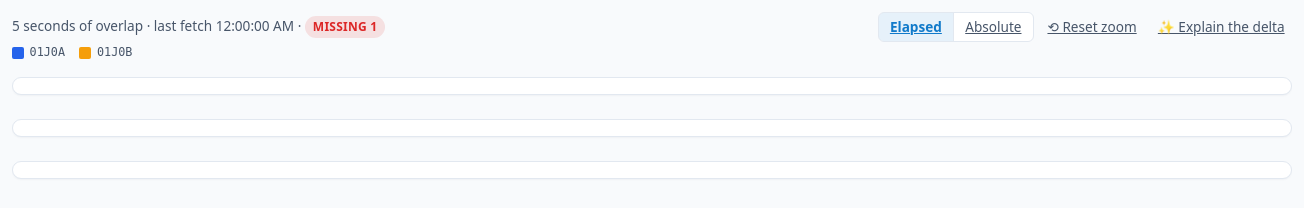
Test: TwoRunMetricsPanel — Explain the delta toggle › does not auto-generate when one run has no data
The image size is (1304, 208).
Click the button "✨ Explain the delta" at coordinates (1221, 27), box [1150,12,1292,42]
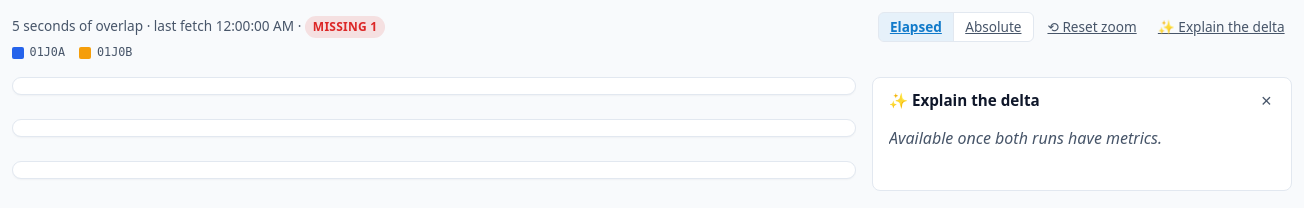
Result: the text "Available once both runs have metrics." is shown at [889,127,1162,149]
